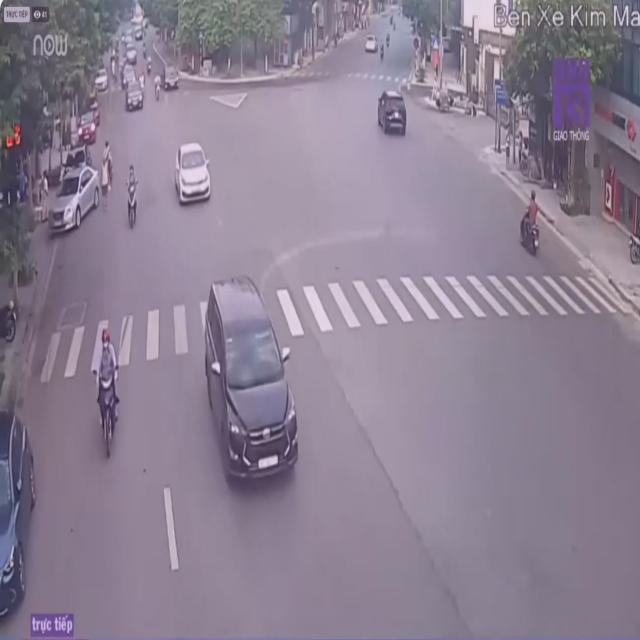car: (208, 282, 299, 491), (0, 407, 35, 623), (48, 167, 100, 231), (173, 142, 212, 207), (377, 92, 407, 140)
motorbike: (89, 316, 122, 462), (523, 191, 544, 257), (124, 166, 141, 234)
